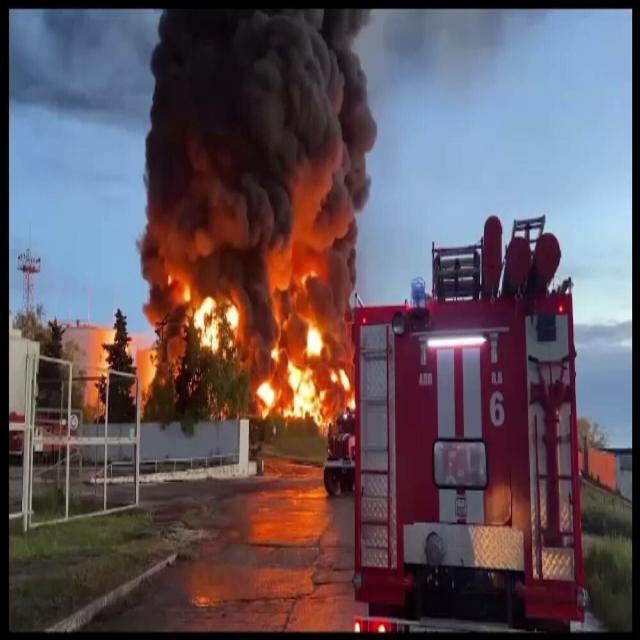Fire: (180, 278, 356, 424)
Smoke: (133, 0, 386, 321)
